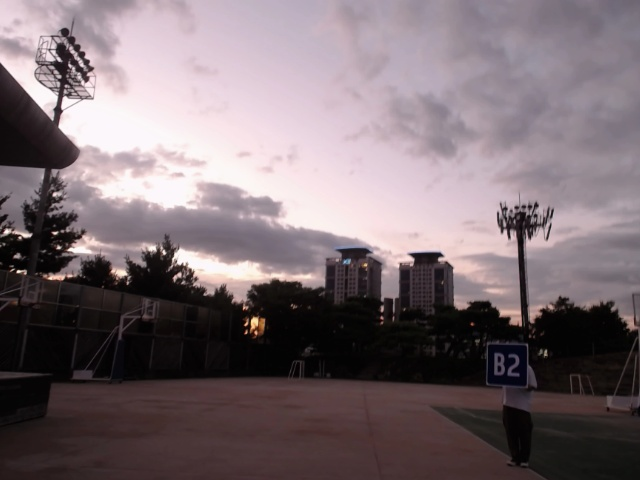delivery_b2: (486, 342, 530, 389)
